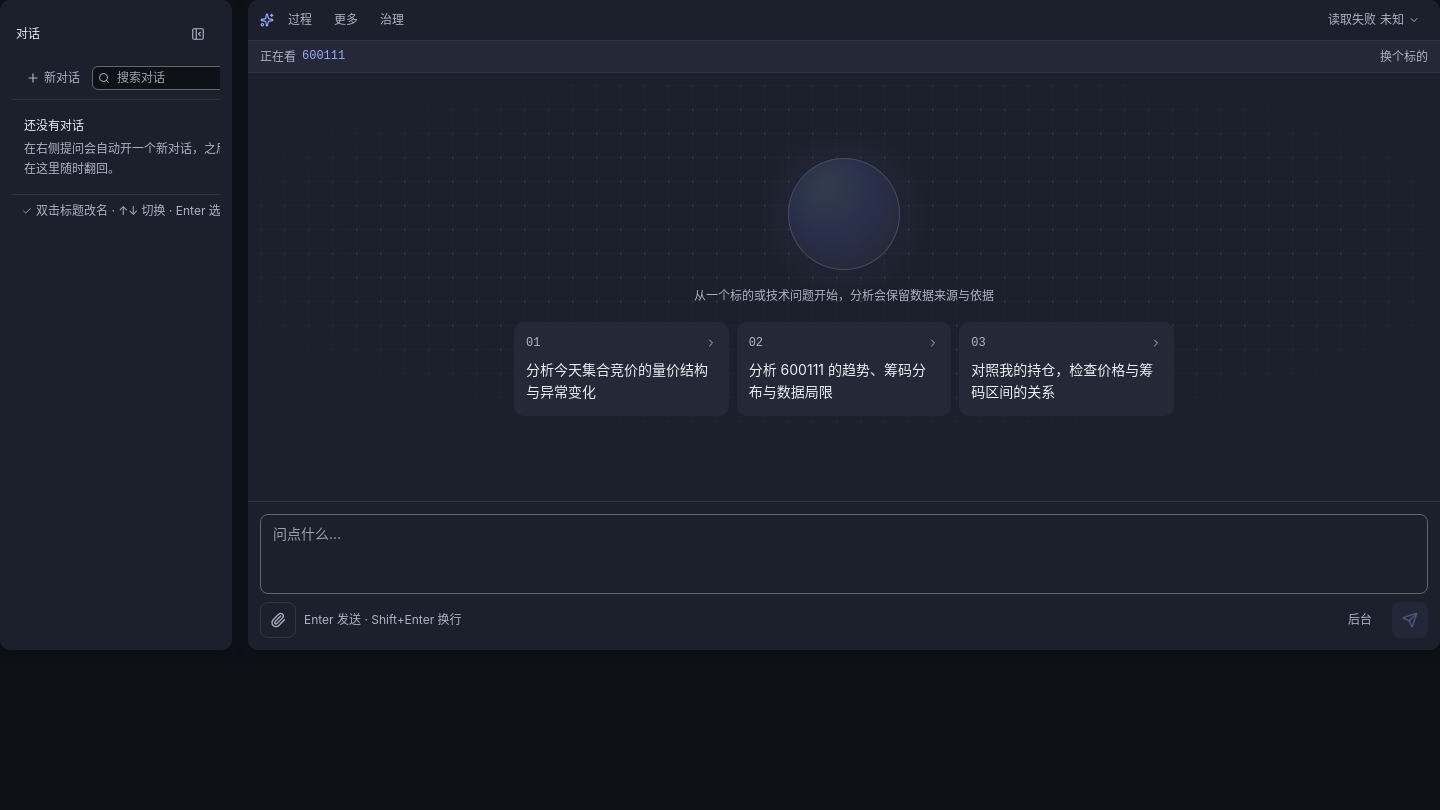
Test case: 标的锁定（2026-10-19 修复：看 600111 却分析成 002361） › 点推荐指令时把锚点标的随请求发出，并绑定到会话
The width and height of the screenshot is (1440, 810).
Expected: the button named "发送" is shown, x1=1392 y1=602 x2=1428 y2=638
Type "全面分析" into the text box with placeholder "问点什么…".
click(844, 554); type("全面分析")  # box x1=260 y1=514 x2=1428 y2=594
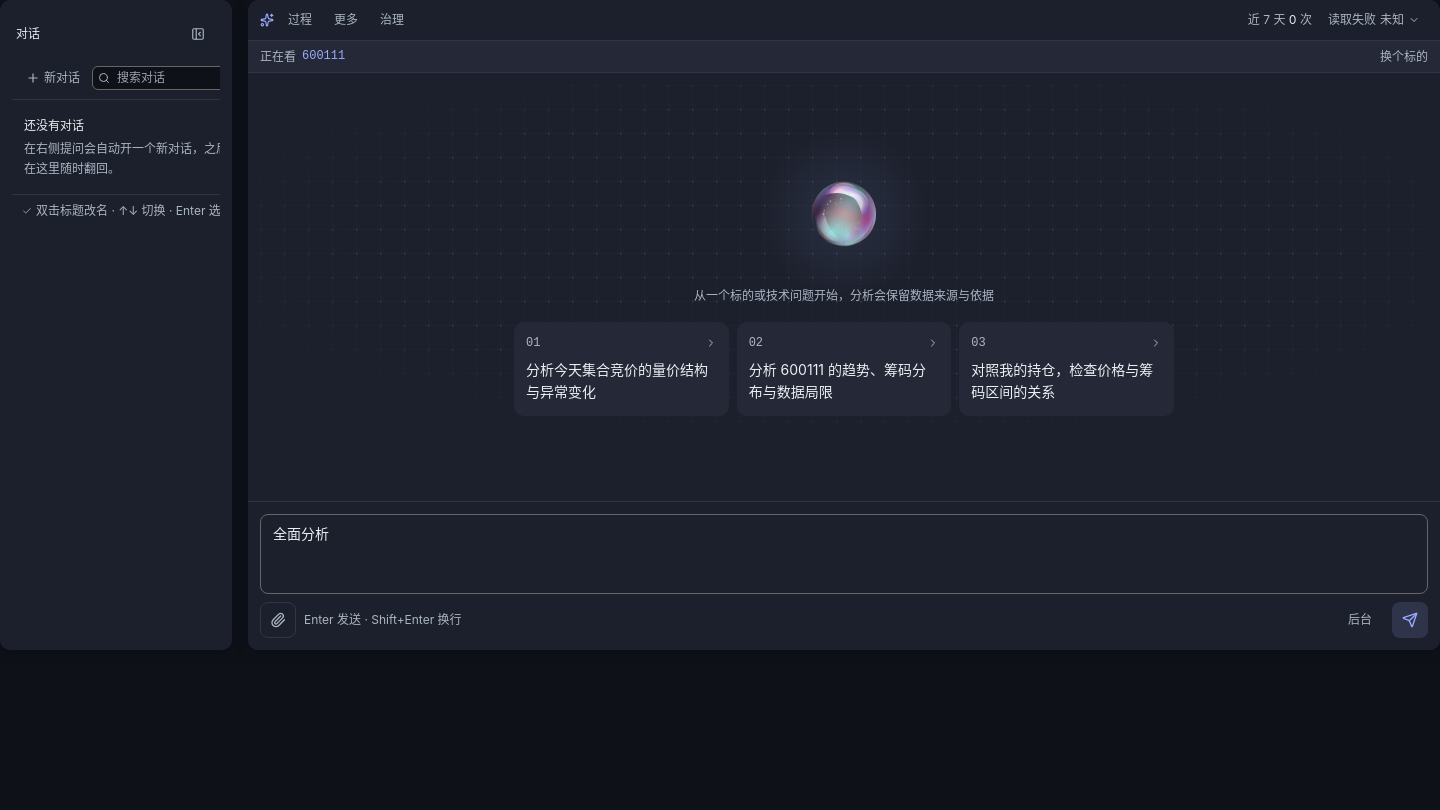
Click the button named "发送".
click(1410, 620)  # box x1=1392 y1=602 x2=1428 y2=638
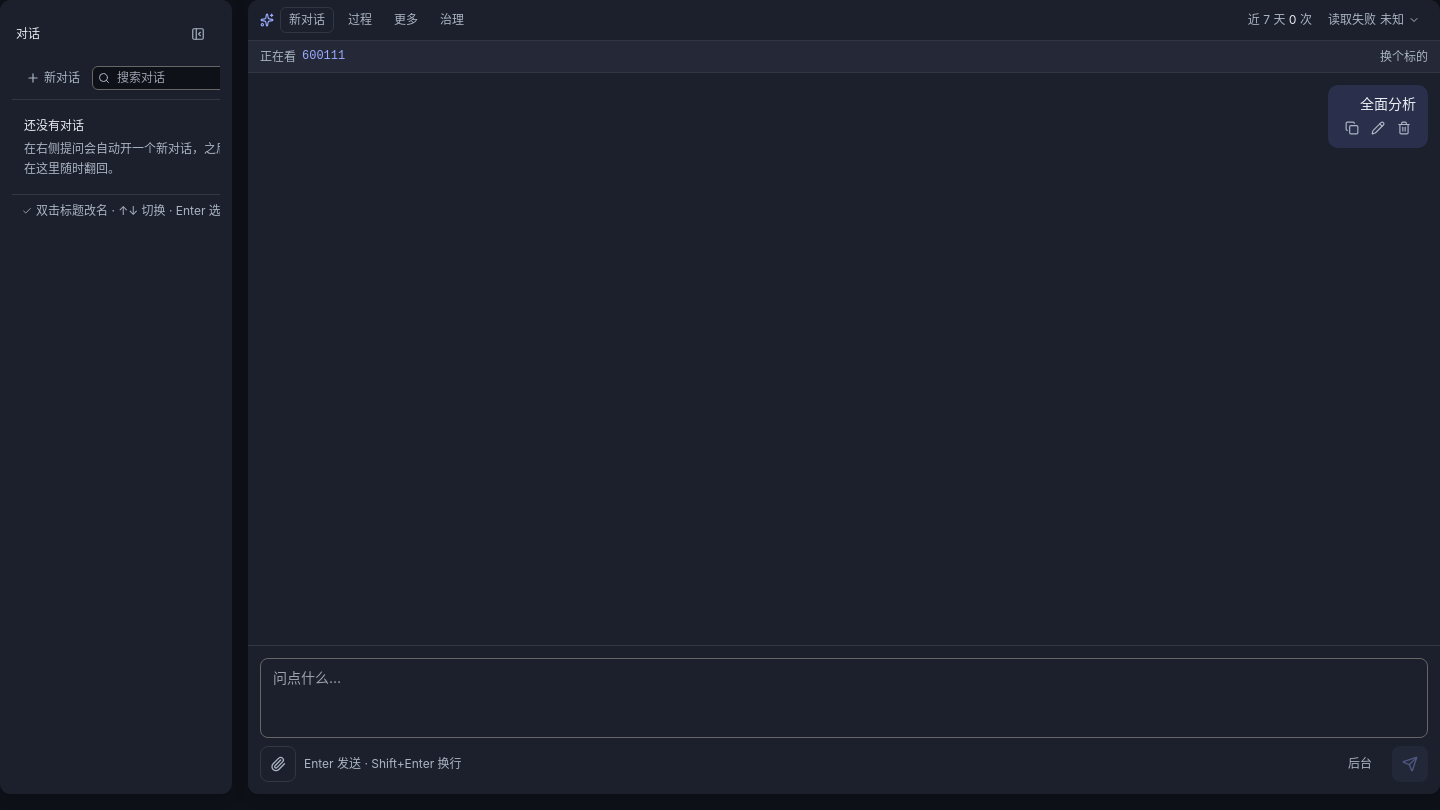
Now the element showing "全面分析" is shown, box x1=1328 y1=85 x2=1428 y2=148
